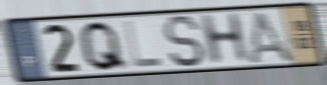2: (43, 23, 81, 74)
A: (246, 9, 299, 64)
H: (197, 11, 253, 68)
L: (122, 19, 165, 70)
Q: (77, 19, 131, 73)
S: (161, 14, 208, 69)
